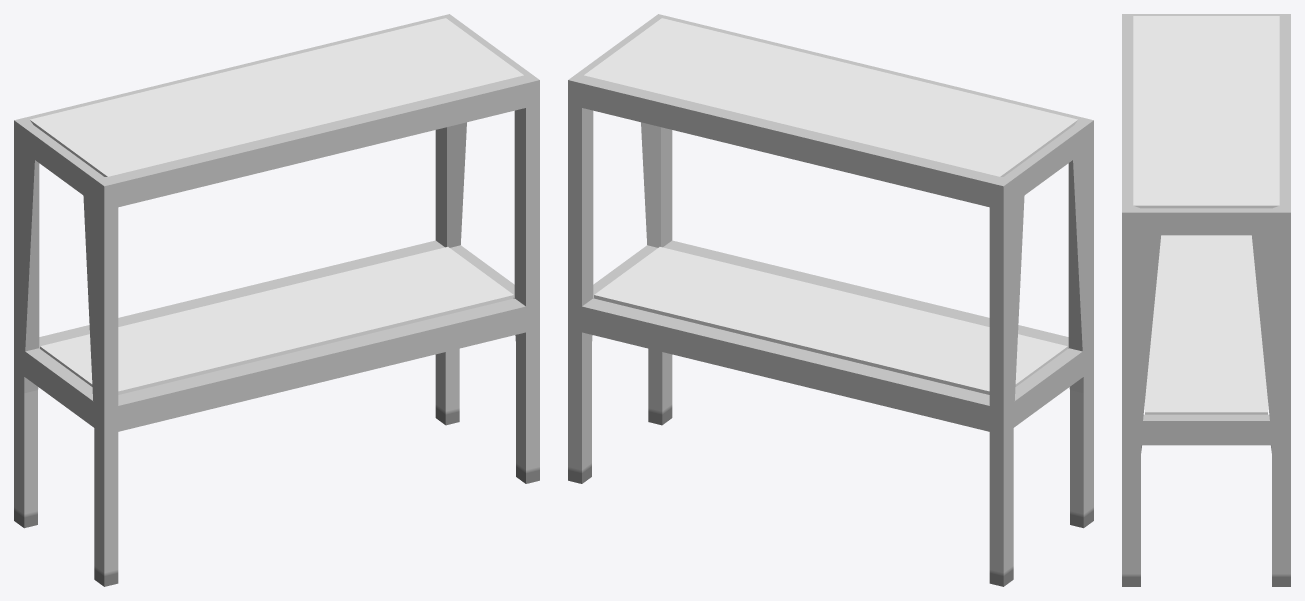
File: Storage.fbx
3 views of the same model, side by side, from view 1: azimuth 30°, elevation 25°; view 2: azimuth 150°, elevation 25°; view 3: azimuth 270°, elevation 25° (orthographic). The views are drawn at different scales.
Visible parts, largest first — view 1: Cube.003; view 2: Cube.003; view 3: Cube.003.
Part boxes in pixels (box(x1,y1,x2,y2)): Cube.003: box(14, 14, 539, 586); Cube.003: box(568, 14, 1093, 586); Cube.003: box(1122, 14, 1290, 586).
Size of the model in its own units: 13.97 by 12.36 by 5.01.
